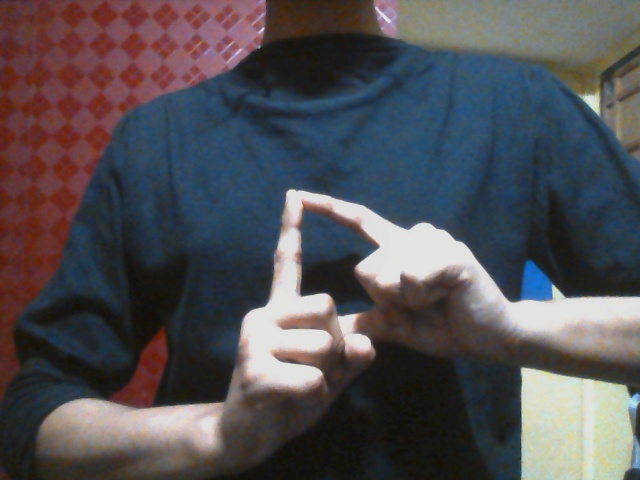D: (222, 189, 508, 471)
